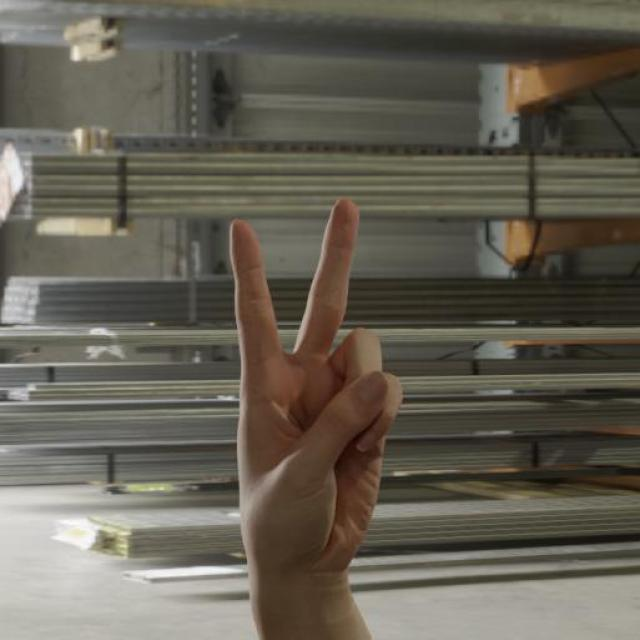V: (225, 187, 404, 588)
